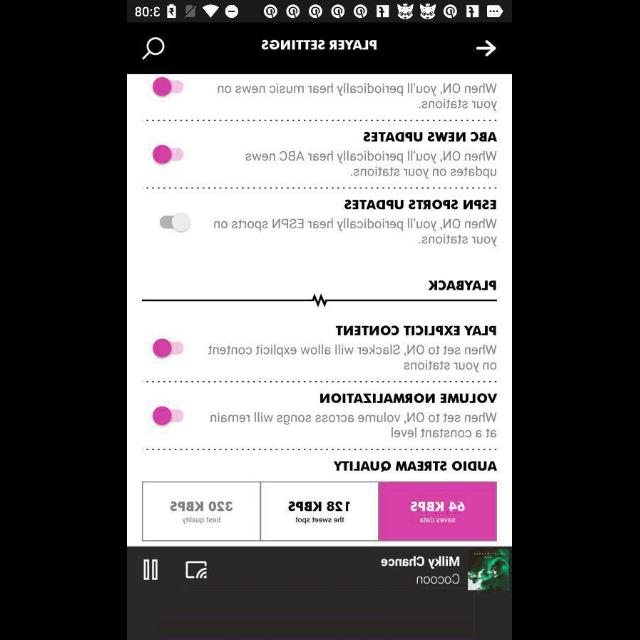icon: (142, 38, 166, 61), (477, 41, 498, 58)
image: (468, 549, 510, 591), (186, 560, 208, 580), (144, 559, 158, 581), (314, 294, 326, 306)
switch: (160, 212, 192, 234), (153, 406, 185, 426), (153, 338, 185, 358), (153, 145, 185, 165), (152, 77, 184, 97)
text: (208, 344, 498, 374), (215, 218, 498, 248), (218, 82, 498, 112), (246, 150, 497, 180), (210, 412, 498, 438), (334, 460, 498, 472), (320, 392, 498, 403), (337, 324, 498, 336), (345, 200, 497, 210), (364, 132, 498, 142), (262, 40, 378, 51), (382, 555, 461, 569), (428, 280, 498, 292), (416, 573, 460, 585)
textbutton: (143, 482, 261, 542), (380, 482, 498, 542), (262, 482, 378, 542)
toolbar: (128, 24, 512, 74)
uppertaskbar: (128, 1, 512, 23)
